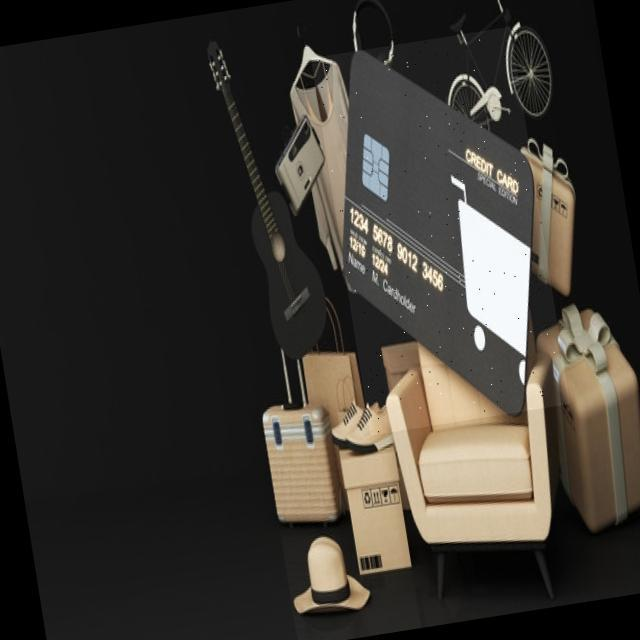payment_card: (339, 48, 536, 418)
